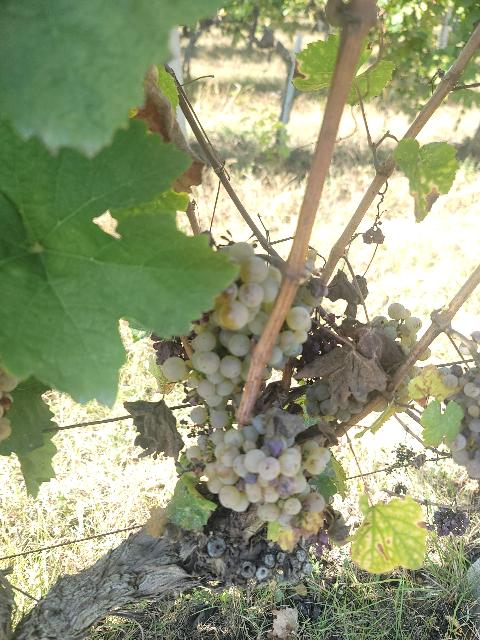grapes: (162, 242, 282, 408), (185, 410, 331, 541), (442, 365, 480, 480)
